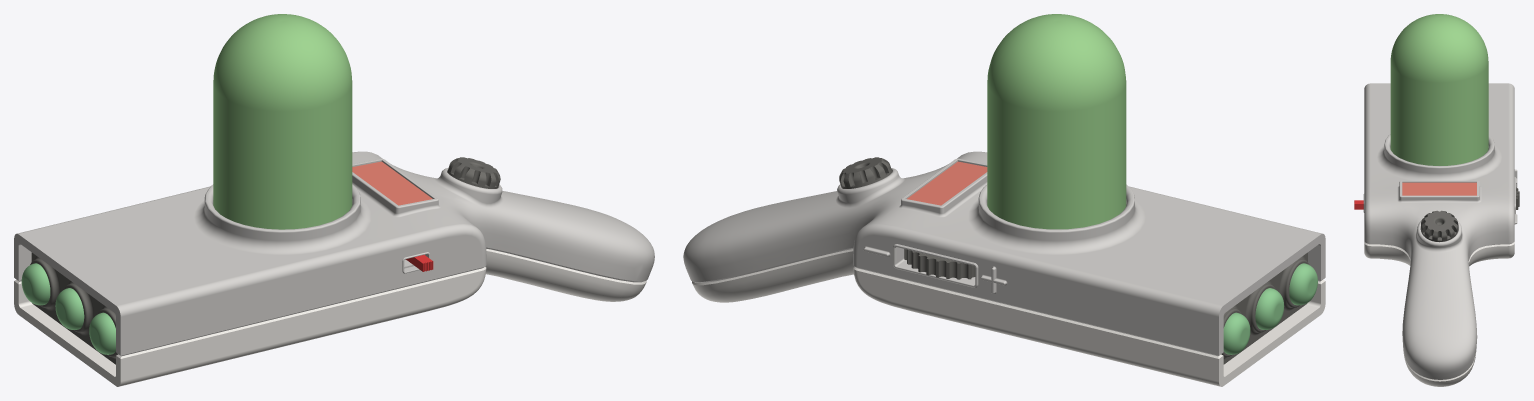
File: portalGun.fbx
3 renders of one model, left to right at view 1: azimuth 30°, elevation 25°; view 2: azimuth 150°, elevation 25°; view 3: azimuth 270°, elevation 25°, orthographic. The views are drawn at different scales.
Visible parts, largest first — view 1: Body37; view 2: Body37; view 3: Body37.
Part boxes in pixels (box(x1,y1,x2,y2)): Body37: box(14, 14, 654, 386); Body37: box(683, 14, 1325, 386); Body37: box(1354, 14, 1519, 386).
Bounding box in the file's own units: 610 × 352 × 211.
